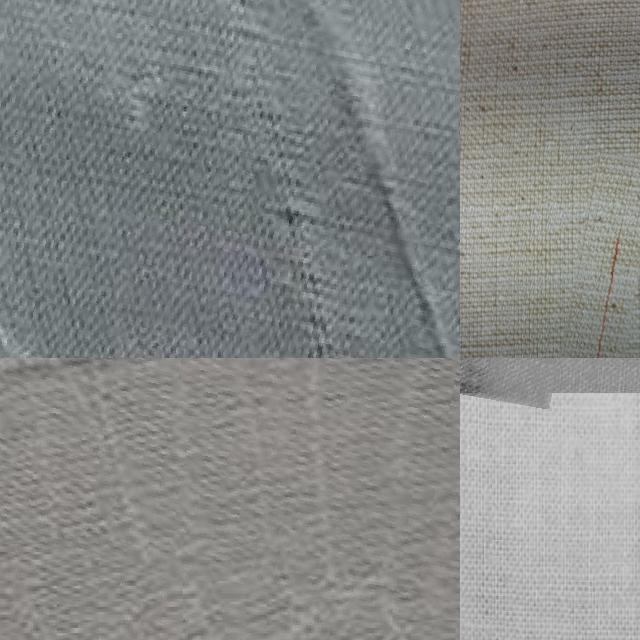Thread_other: (460, 358, 556, 400)
stains: (0, 358, 460, 603), (556, 150, 640, 358)
